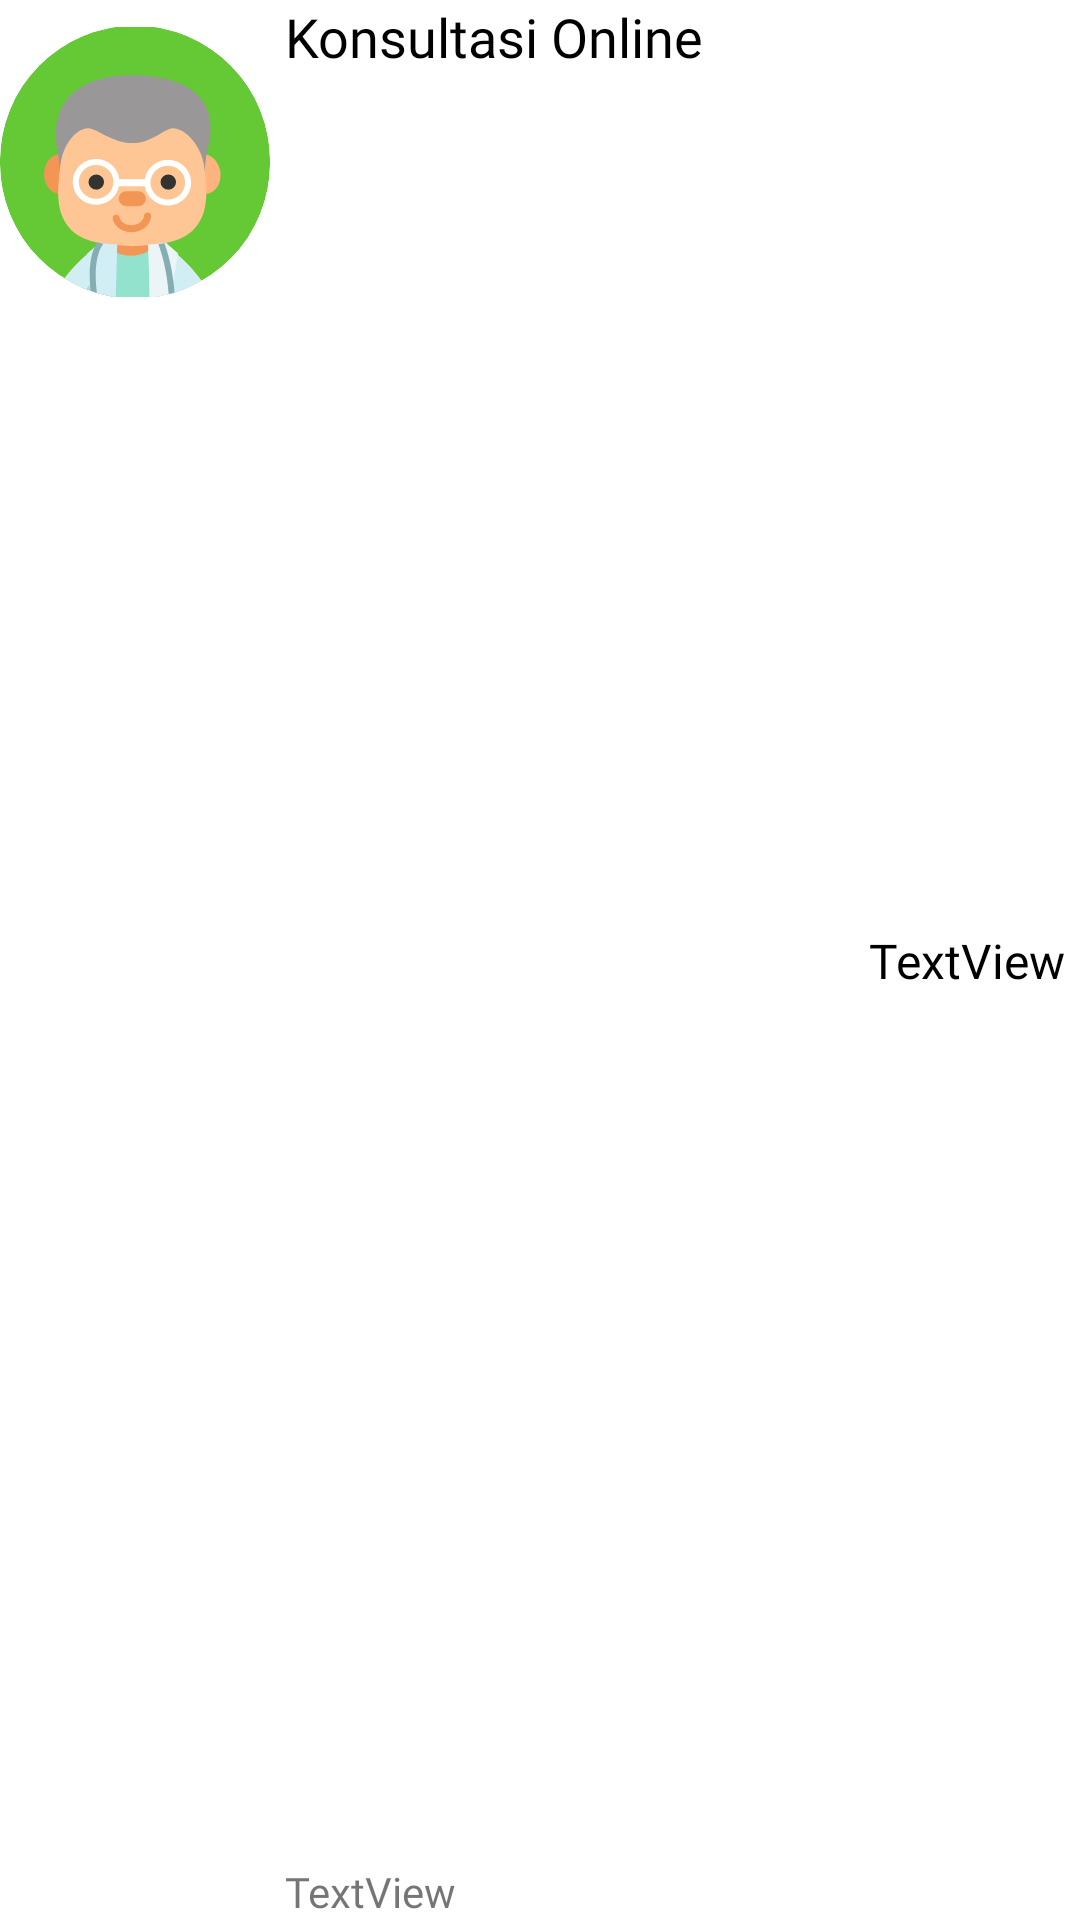

Icons on this 1080 x 1920 Android screen, each with its box as [x1=x1, y1=y1, x2=x2, y2=y2]:
doctor: [x1=0, y1=27, x2=270, y2=297]
